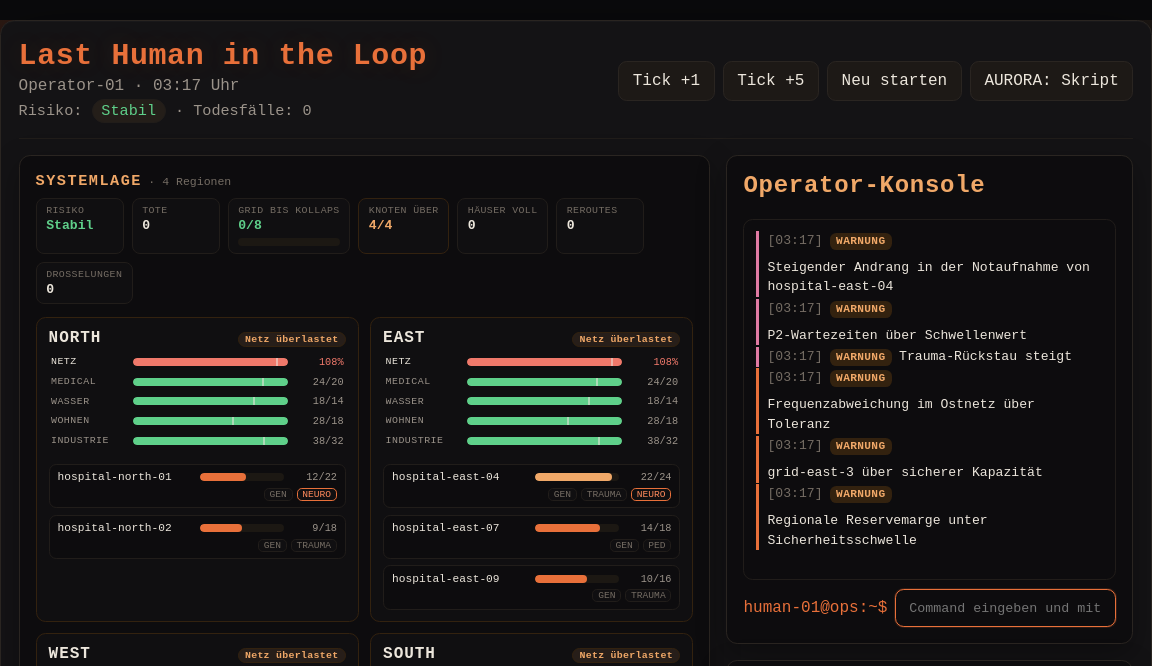
Test case: MVP hardening › Neu starten works after the shift has collapsed and re-enables tick buttons
Click the button "Tick +5" at (771, 81), box [723,61,819,101]
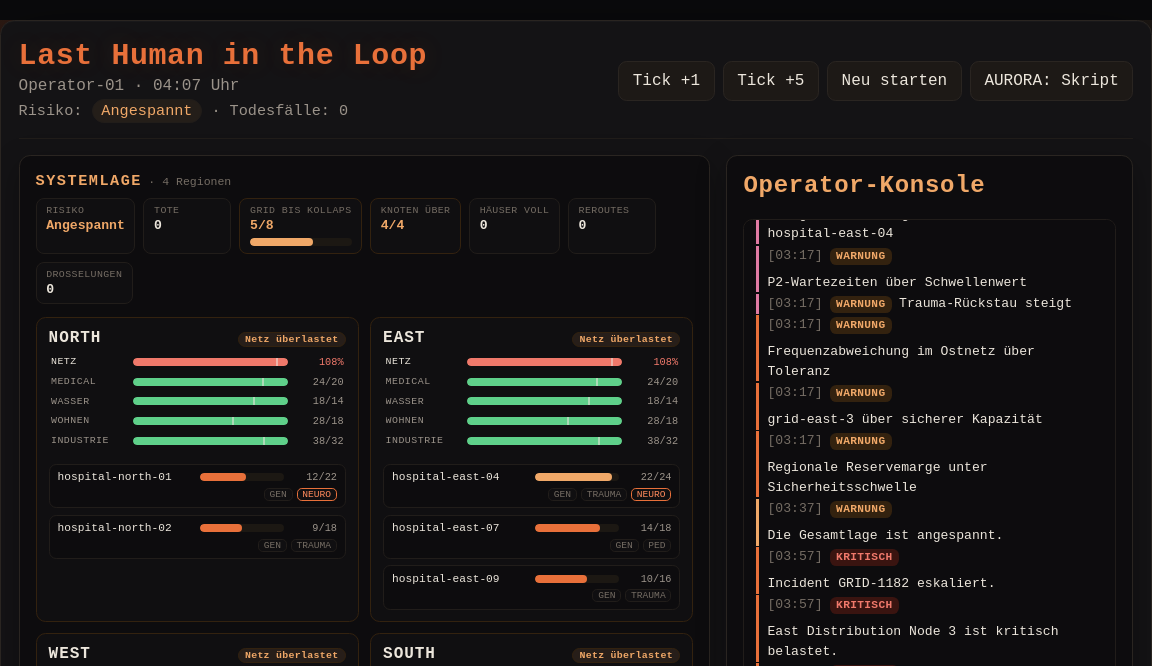
Click the button "Tick +5" at (771, 81), box [723,61,819,101]
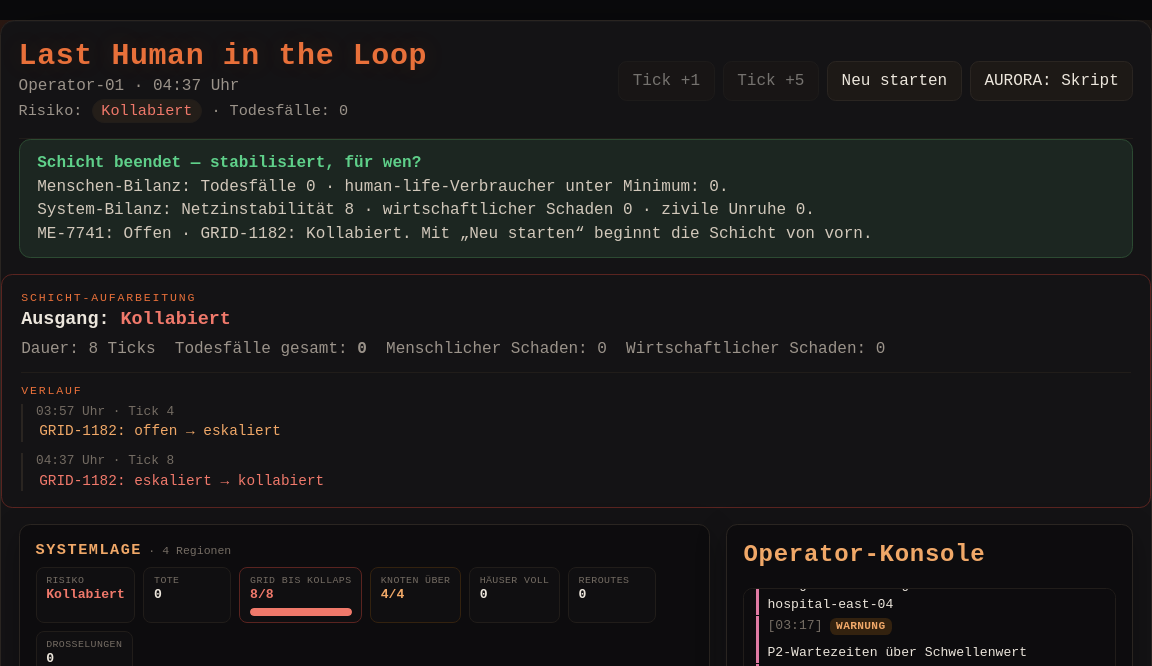
Check: the text "Risiko: Kollabiert" is shown, box [19,99,348,123]
Click the button "Neu starten" at (894, 81), box [827,61,962,101]
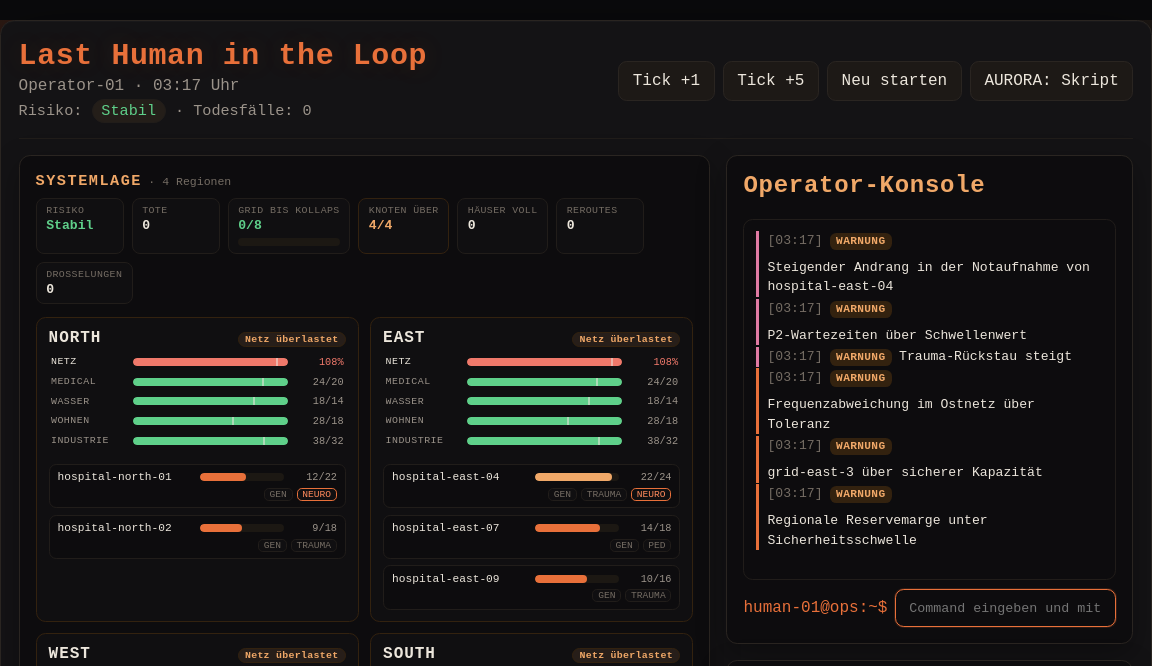
Check: the text "Risiko: Kollabiert" is gone
Check: the button "Tick +1" is enabled, box [618,61,715,101]
Check: the button "Tick +5" is enabled, box [723,61,819,101]
